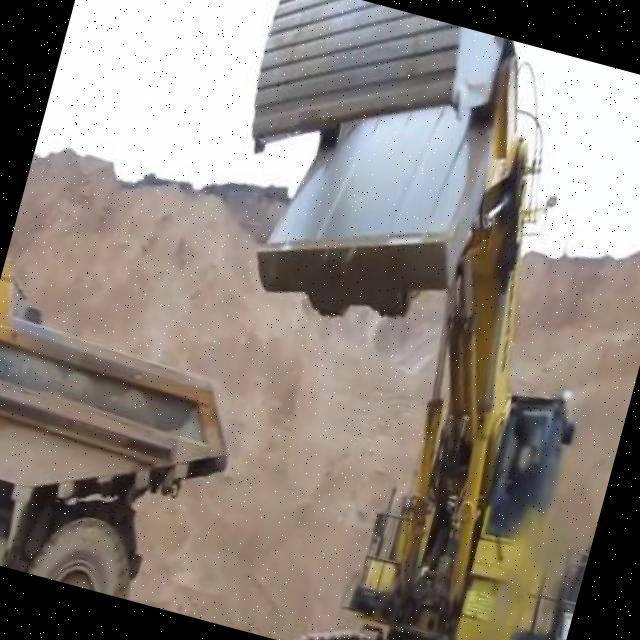Dump Truck: (0, 252, 266, 615)
Excavator: (114, 0, 640, 640)
